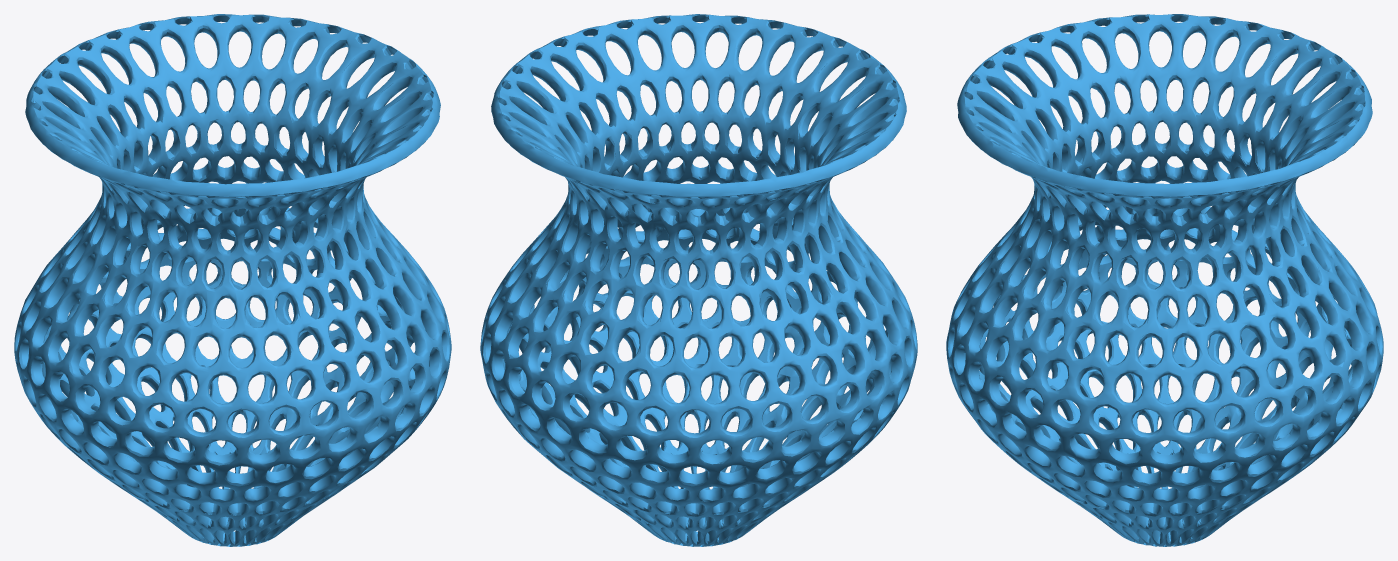
The model's file is decorative_vase.glb.
3 views of the same model, side by side, from view 1: azimuth 30°, elevation 25°; view 2: azimuth 150°, elevation 25°; view 3: azimuth 270°, elevation 25° (orthographic).
Visible parts, largest first — view 1: decorative_vase_target; view 2: decorative_vase_target; view 3: decorative_vase_target.
Boxes of the visible parts, <box> form: decorative_vase_target: <box>14,14,451,546</box>; decorative_vase_target: <box>480,14,917,546</box>; decorative_vase_target: <box>946,14,1383,546</box>.
Size of the model in its own units: 0.3351 by 0.3614 by 0.3351.
